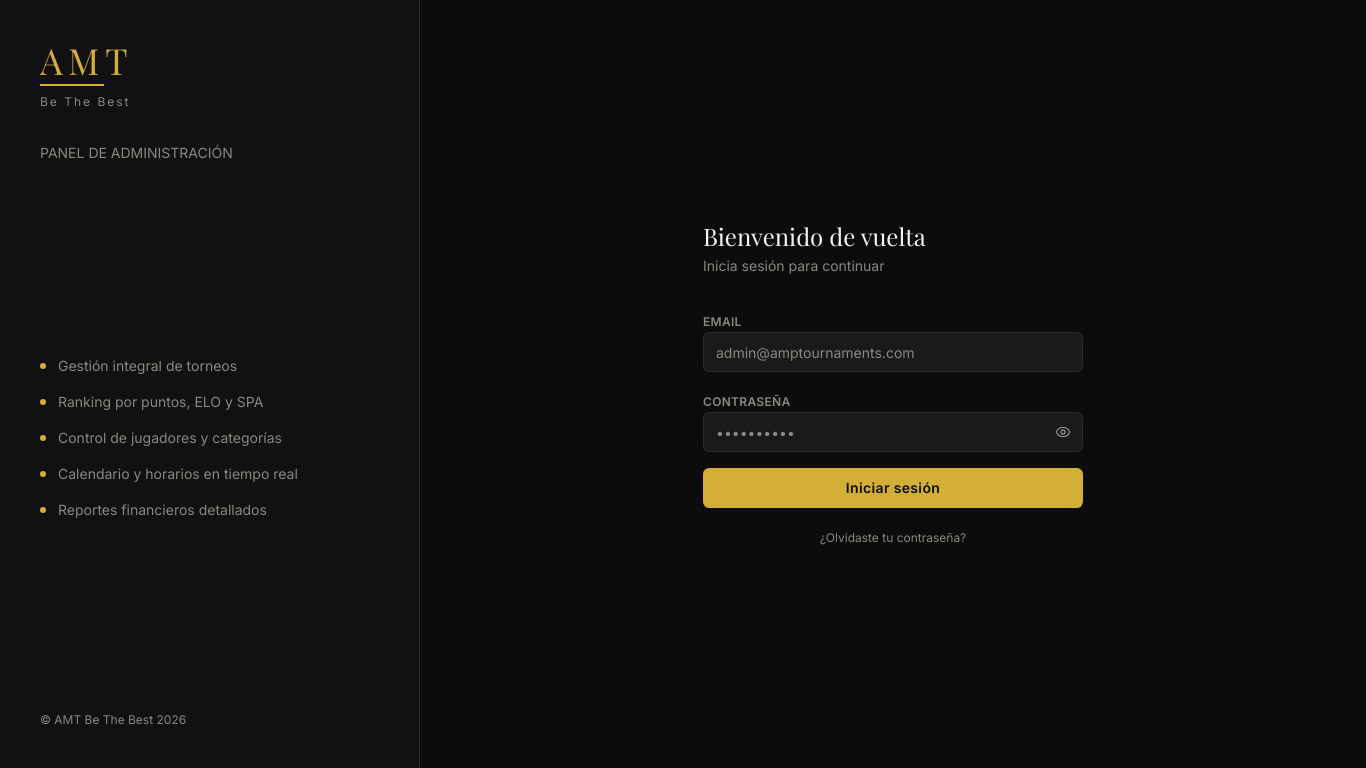
Test: LoginForm › muestra el error de la API cuando login falla
Step 1. Type "admin@test.com" into the field with placeholder "admin@amptournaments.com" → [893, 352], box top-left (703, 332), bottom-right (1083, 372)
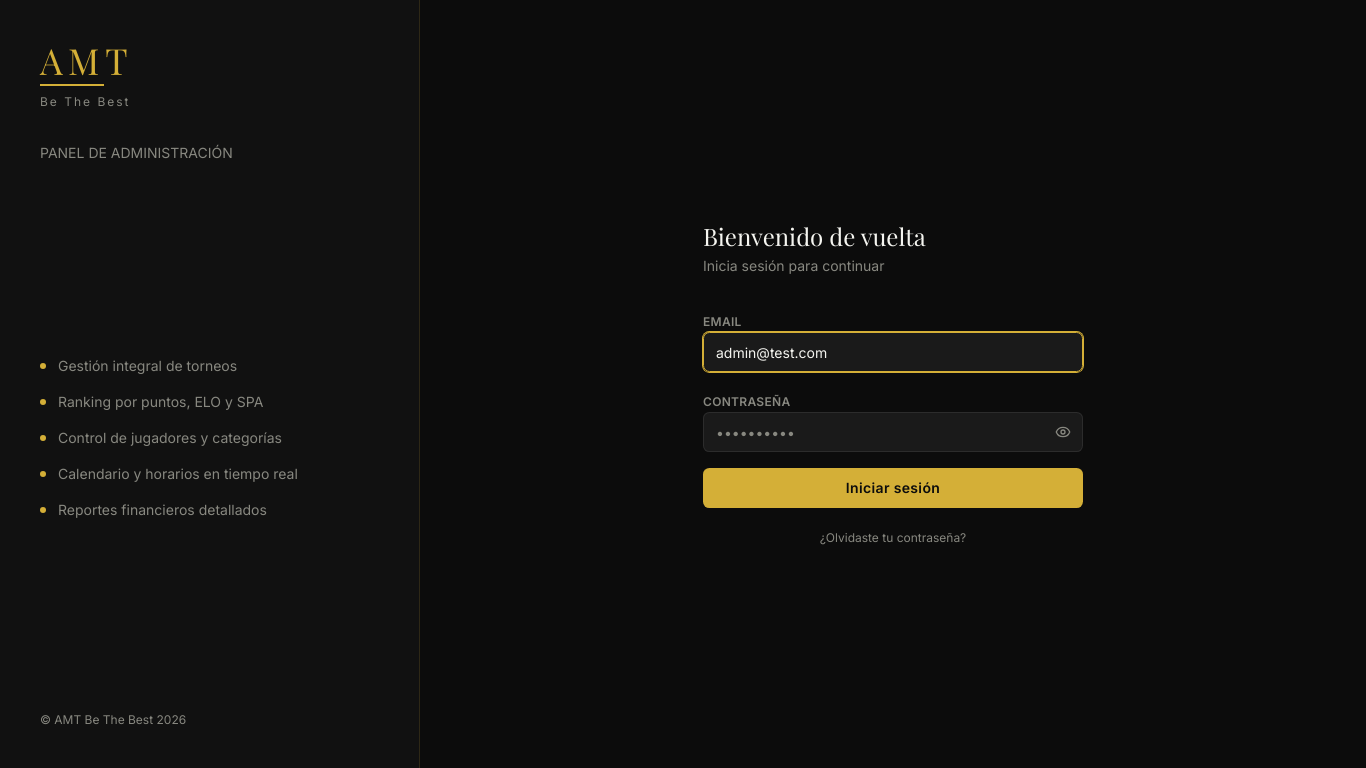
Step 2. Type "wrongpass" into the password field with placeholder "••••••••••" → [893, 432], box top-left (703, 412), bottom-right (1083, 452)
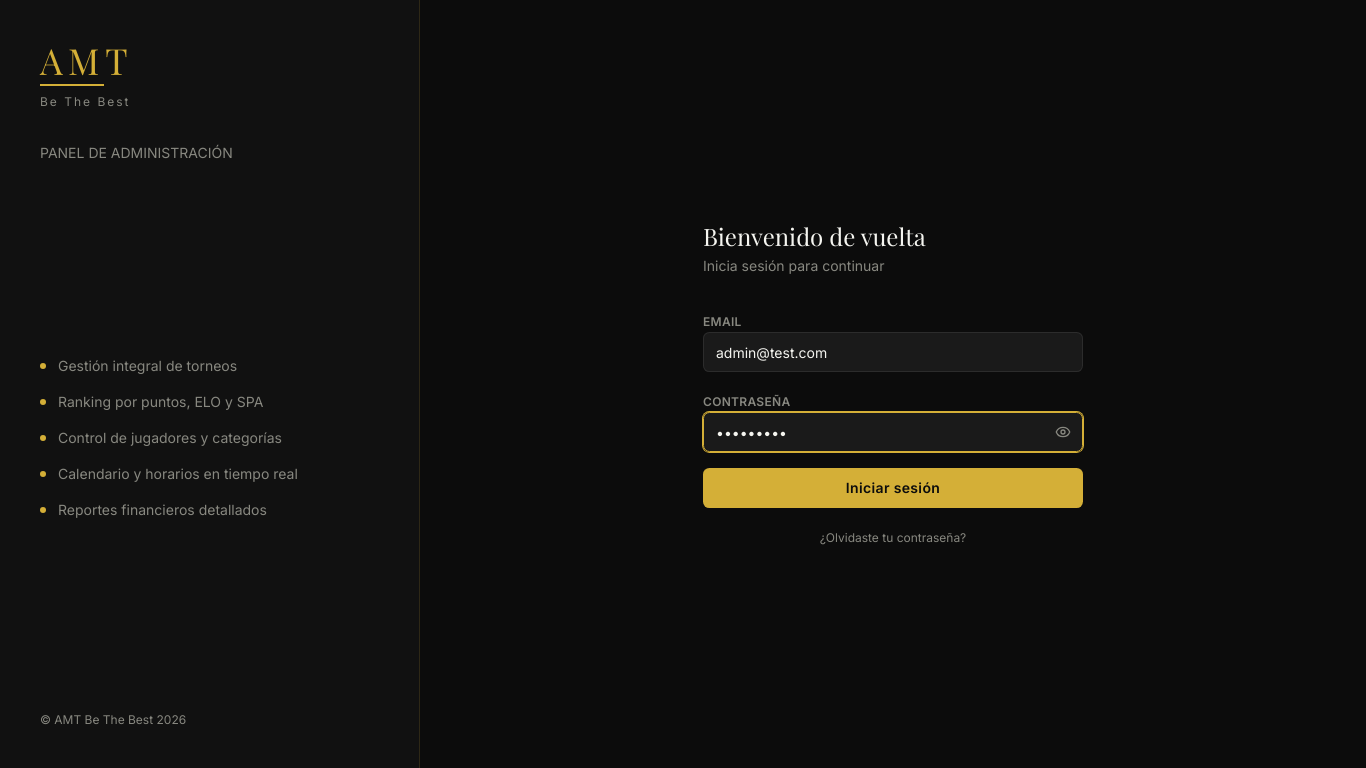
Step 3. Submit the form "Email Contraseña Iniciar sesión ¿Olvidaste tu contraseña?", box top-left (703, 308), bottom-right (1083, 548)
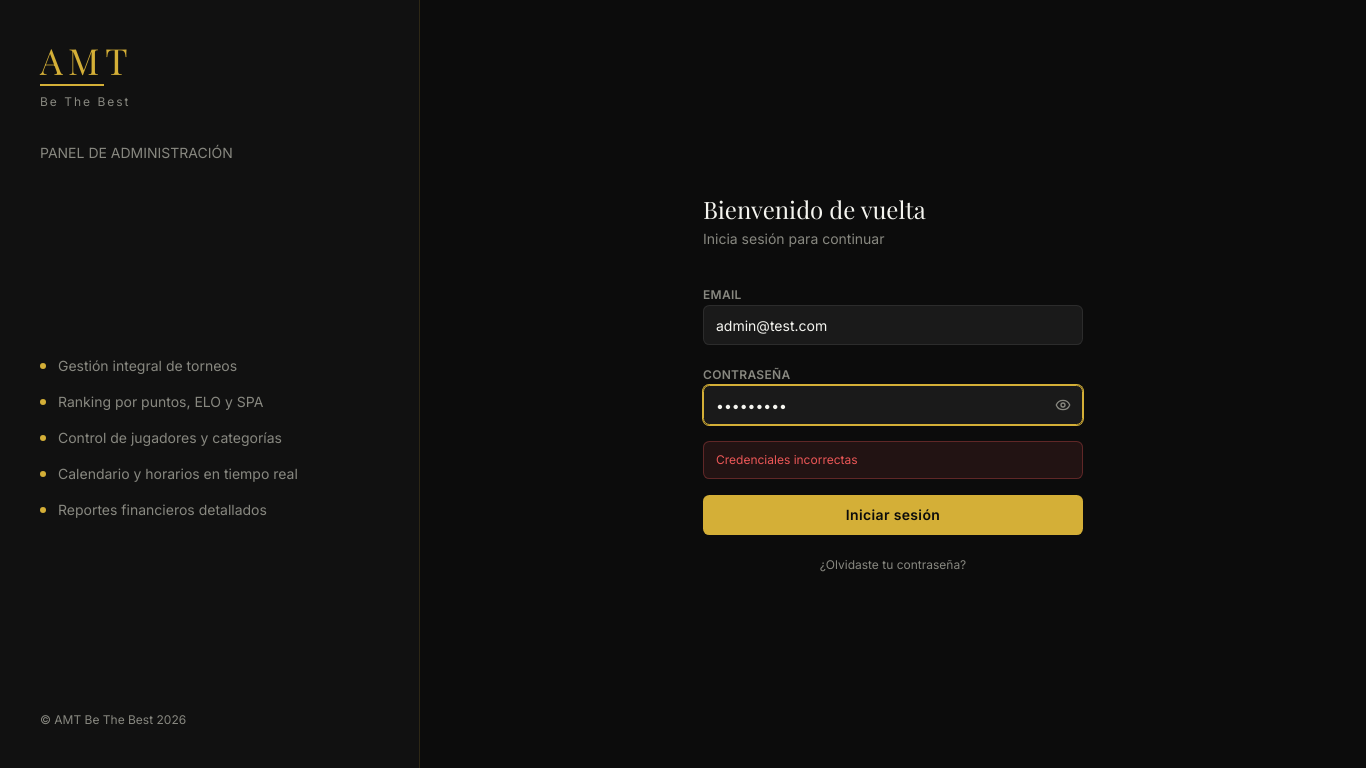
expect the text "Credenciales incorrectas" is shown: met, box top-left (716, 452), bottom-right (858, 468)
